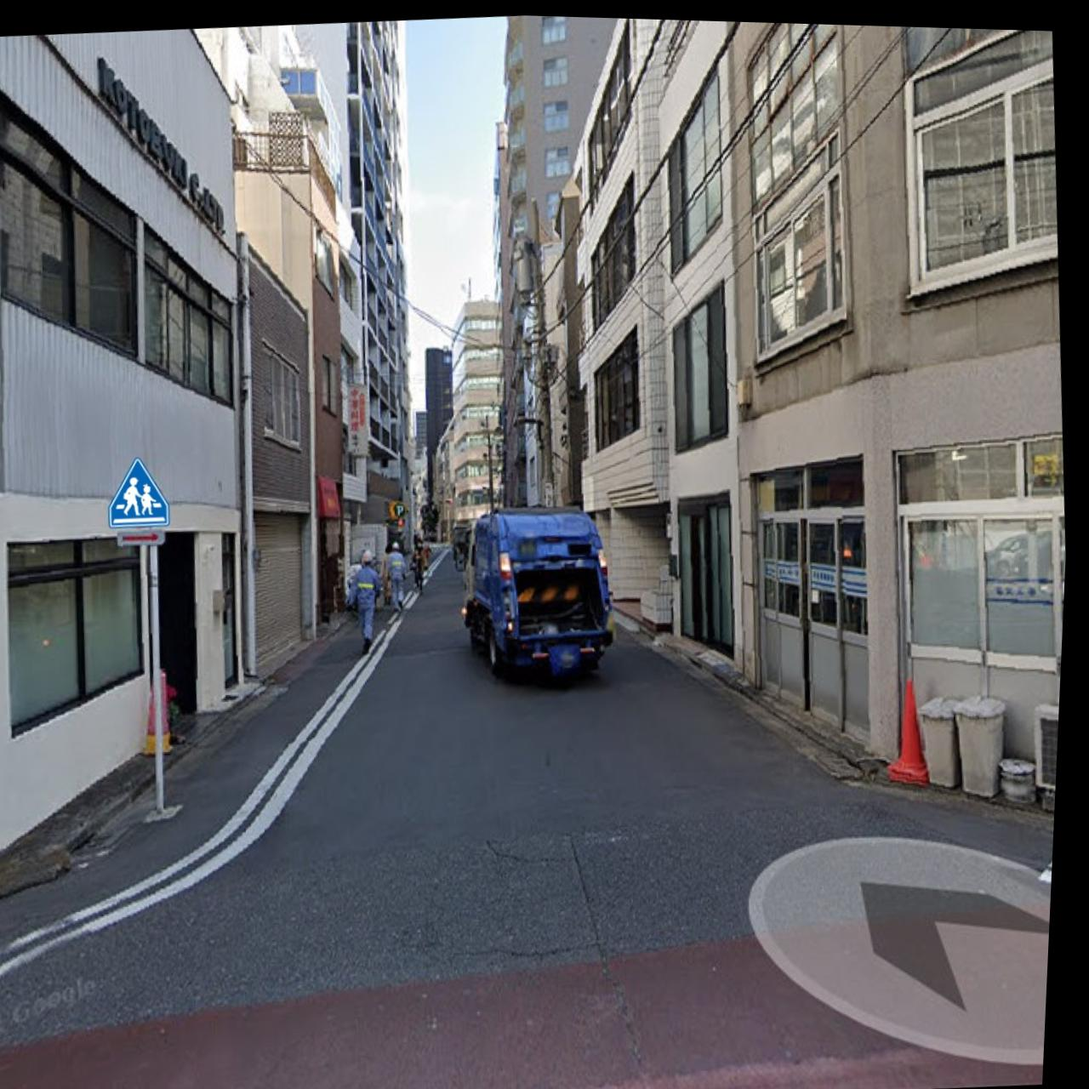cone: (53, 246, 161, 775)
